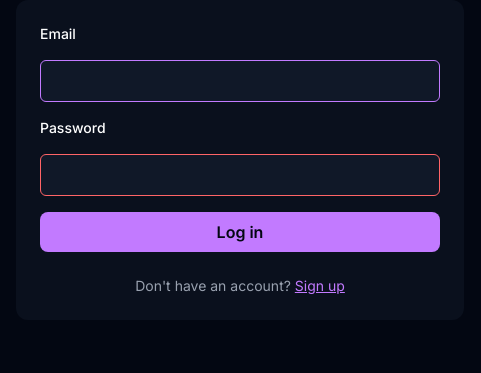
Test: LoginForm › shows a friendly error and keeps the form interactive on invalid credentials
This screenshot has width=481, height=373.
Type "alice@example.com" into the field labelled "Email" at [240, 81], box [40,60,440,102]
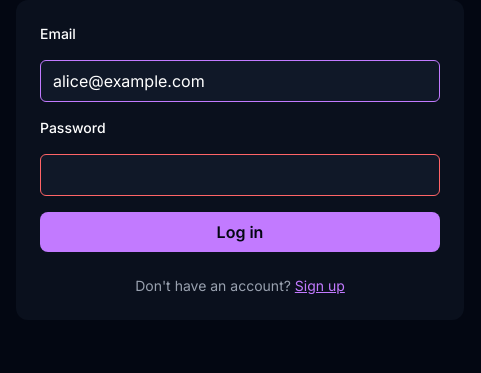
Type "password123" into the password field labelled "Password" at [240, 175], box [40,154,440,196]
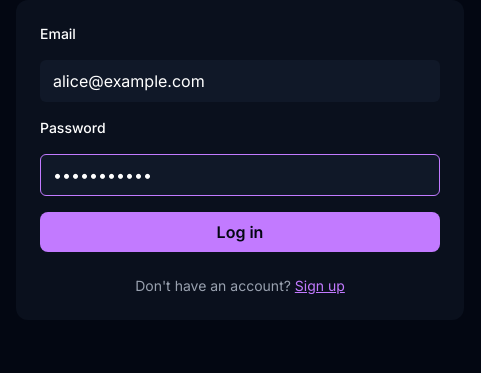
Click the button "Log in" at [240, 232], box [40,212,440,252]
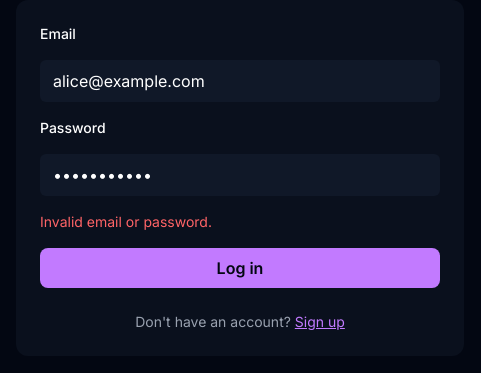
Expected: the button "Log in" is enabled, [40,248,440,288]
Expected: the message shows "Invalid email or password", [40,213,212,230]
